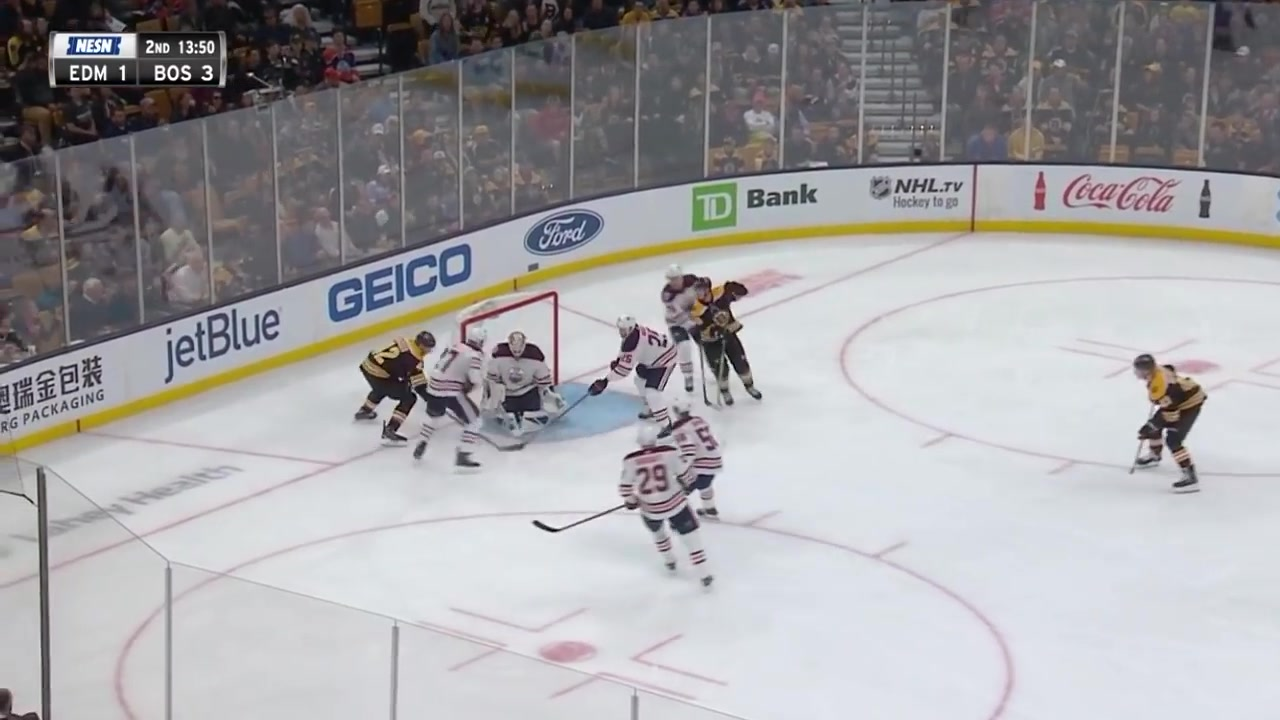Geico: (313, 229, 480, 330)
